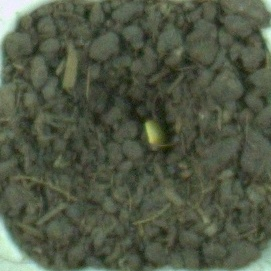pepper seed: (59, 45, 229, 193)
